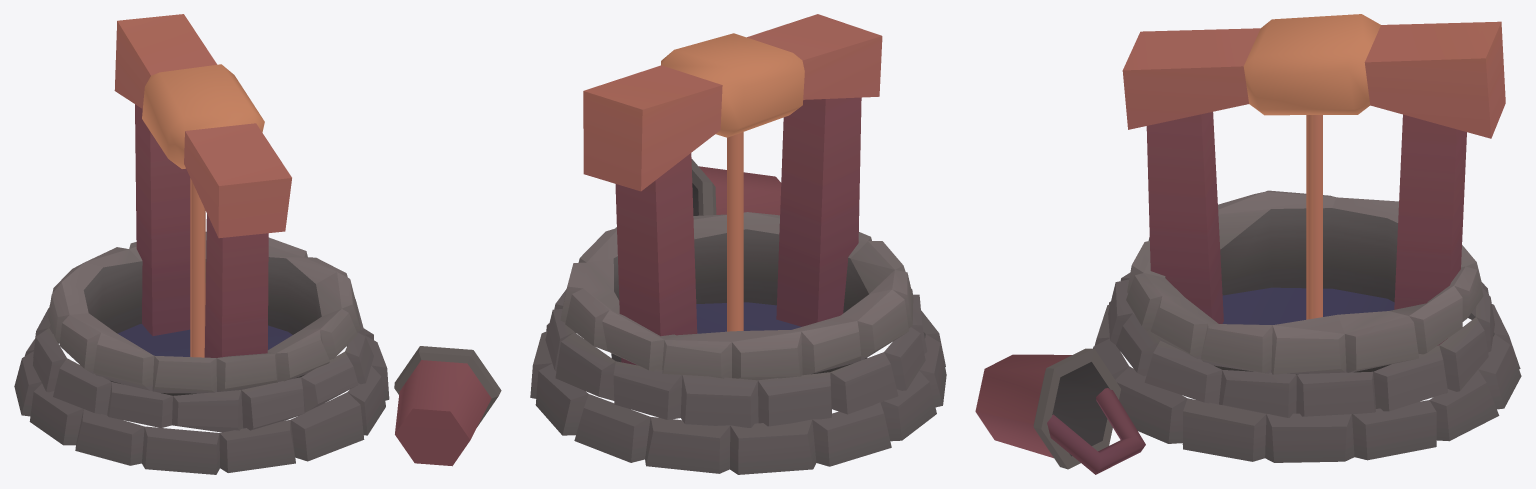
Rendered from well.glb.
3 renders of one model, left to right at view 1: azimuth 30°, elevation 25°; view 2: azimuth 150°, elevation 25°; view 3: azimuth 270°, elevation 25°, orthographic. The views are drawn at different scales.
Visible parts, largest first — view 1: Well.001_Material.005_0; view 2: Well.001_Material.005_0; view 3: Well.001_Material.005_0.
Boxes of the visible parts, x1,y1,x2,y2 form: Well.001_Material.005_0: (14, 14, 501, 474); Well.001_Material.005_0: (530, 14, 946, 474); Well.001_Material.005_0: (975, 14, 1521, 474).
Size of the model in its own units: 1.72 by 1.44 by 2.
1 material, 1 textured.
